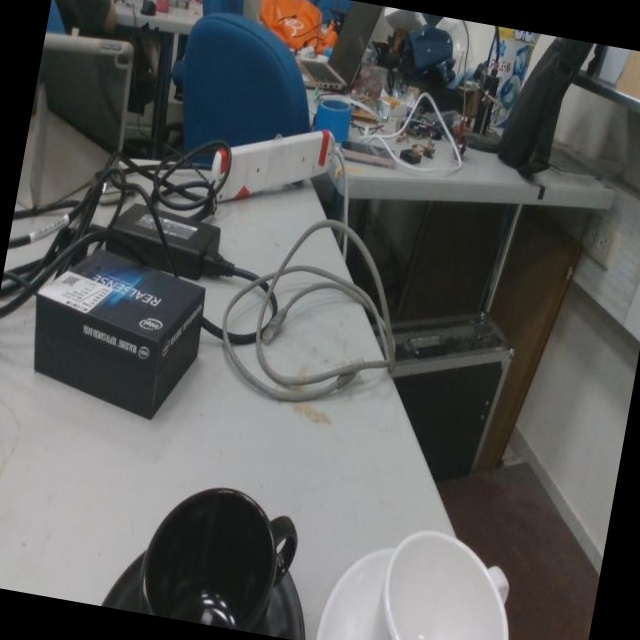black: (109, 484, 322, 625)
white: (324, 528, 532, 640)
